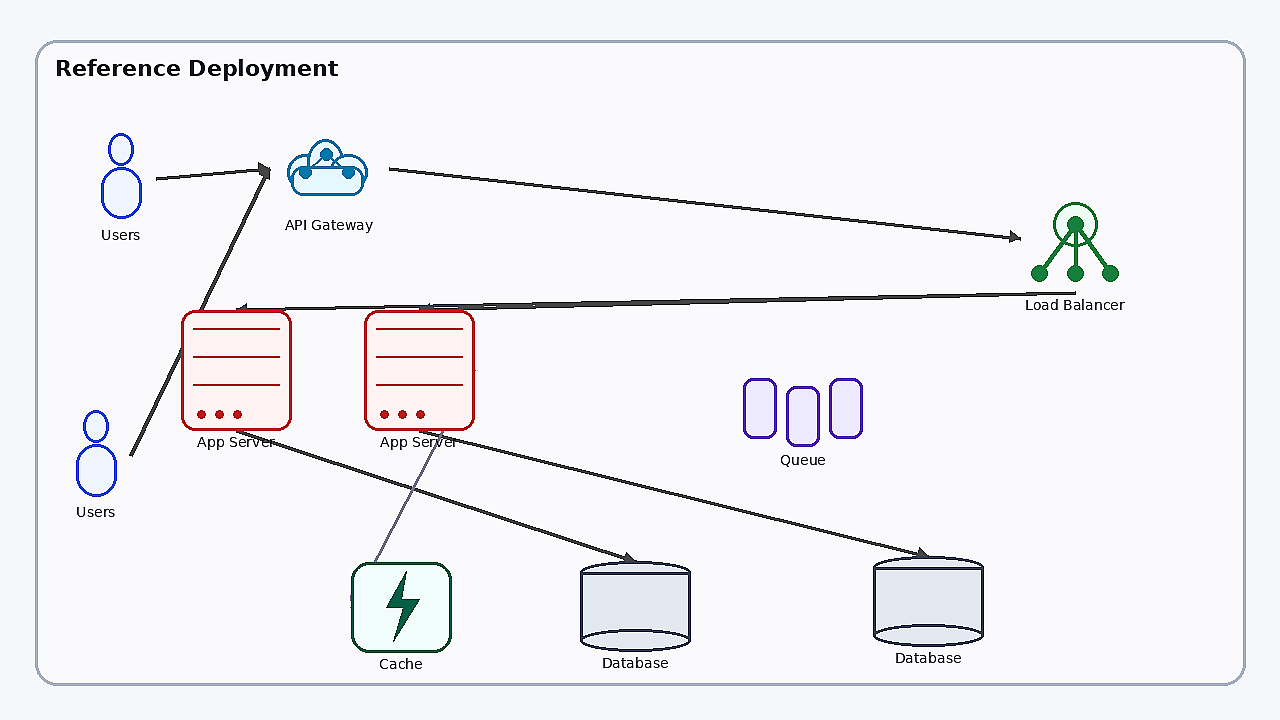API Gateway: (269, 123, 389, 213)
Application Server: (181, 310, 291, 430), (364, 310, 474, 430)
Cache: (351, 562, 451, 652)
Database: (580, 561, 690, 651), (873, 556, 983, 646)
Load Balancer: (1020, 183, 1130, 293)
Message Queue: (743, 378, 863, 448)
User: (61, 410, 131, 500), (86, 133, 156, 223)
